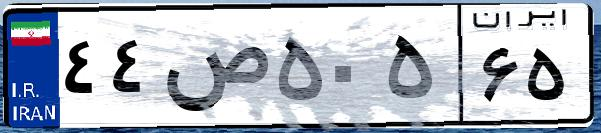0: (330, 28, 385, 110)
4: (57, 26, 110, 100), (110, 28, 158, 98)
5: (270, 28, 330, 110), (385, 28, 445, 110), (525, 38, 570, 115)
6: (475, 38, 525, 113)
ص: (158, 20, 270, 120)
